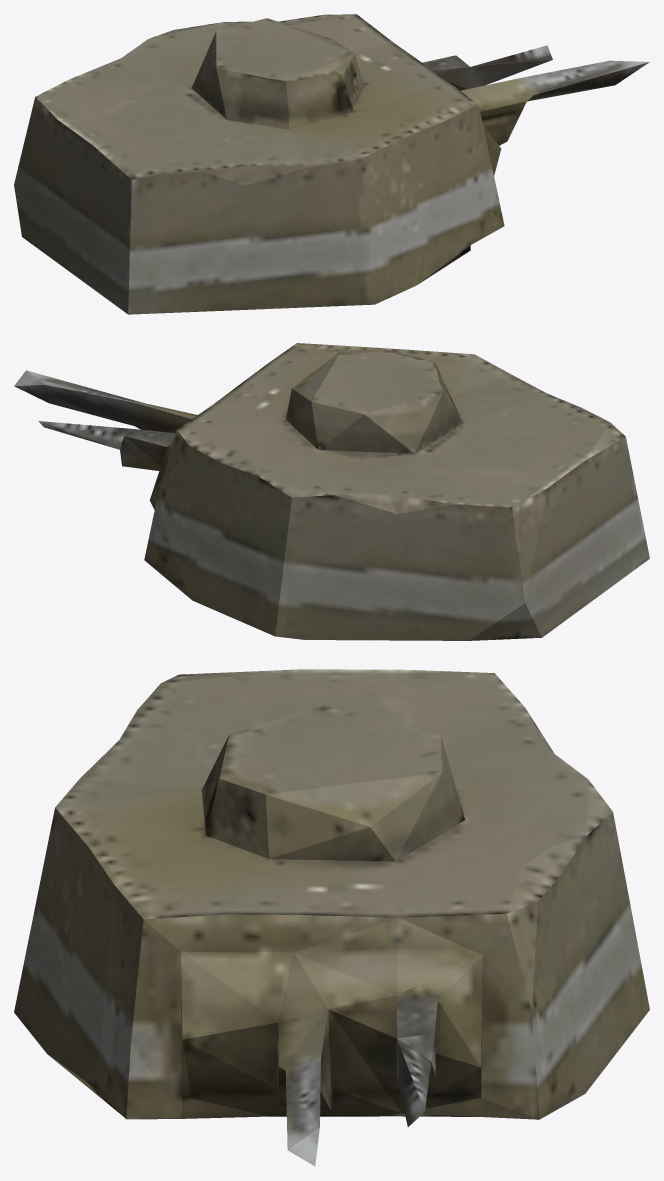
File: turret.obj
The picture shows the model from 3 angles, top to bottom: view 1: azimuth 30°, elevation 25°; view 2: azimuth 150°, elevation 25°; view 3: azimuth 270°, elevation 25°; orthographic projection. The views are drawn at different scales.
Size of the model in its own units: 0.5144 by 0.155 by 0.3279.
Materials: 1 (1 with a texture image).
